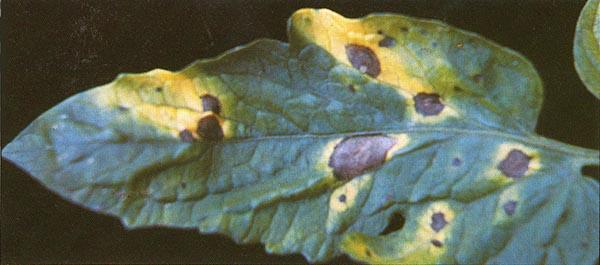Potato leaf late blight: (5, 1, 550, 265)
